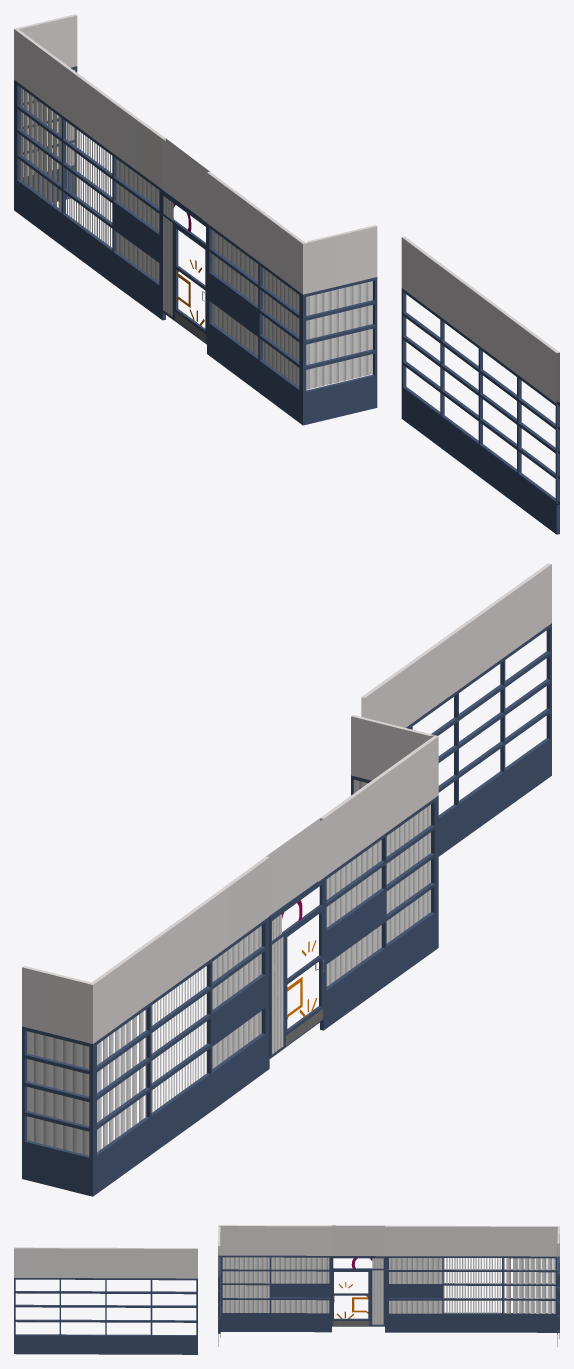
The model's file is SW_corridor__R_lobby_R_Aula_ikkuna_TTKnToimisto.FBX.
3 views of the same model, one above another, from view 1: azimuth 30°, elevation 25°; view 2: azimuth 150°, elevation 25°; view 3: azimuth 270°, elevation 25° (orthographic). The views are drawn at different scales.
Visible parts, largest first — view 1: SW_corridor__R_lobby_R_Aula_ikkuna_TTKnToimisto; view 2: SW_corridor__R_lobby_R_Aula_ikkuna_TTKnToimisto; view 3: SW_corridor__R_lobby_R_Aula_ikkuna_TTKnToimisto.
Boxes of the visible parts, bbox=[...] form: SW_corridor__R_lobby_R_Aula_ikkuna_TTKnToimisto: bbox=[14, 14, 559, 534]; SW_corridor__R_lobby_R_Aula_ikkuna_TTKnToimisto: bbox=[22, 563, 551, 1196]; SW_corridor__R_lobby_R_Aula_ikkuna_TTKnToimisto: bbox=[14, 1225, 559, 1354].
Size of the model in its own units: 155 by 1482 by 317.
